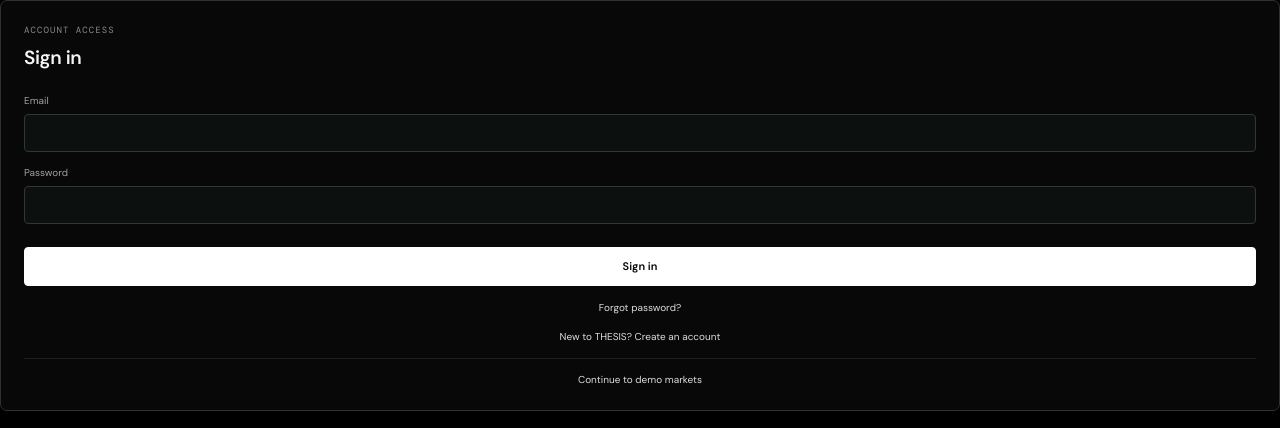
Test case: AuthForm › handles signup with an active session
The width and height of the screenshot is (1280, 428).
Step 1. Click the button "New to THESIS? Create an account" → (640, 336), box [24,328,1256,344]
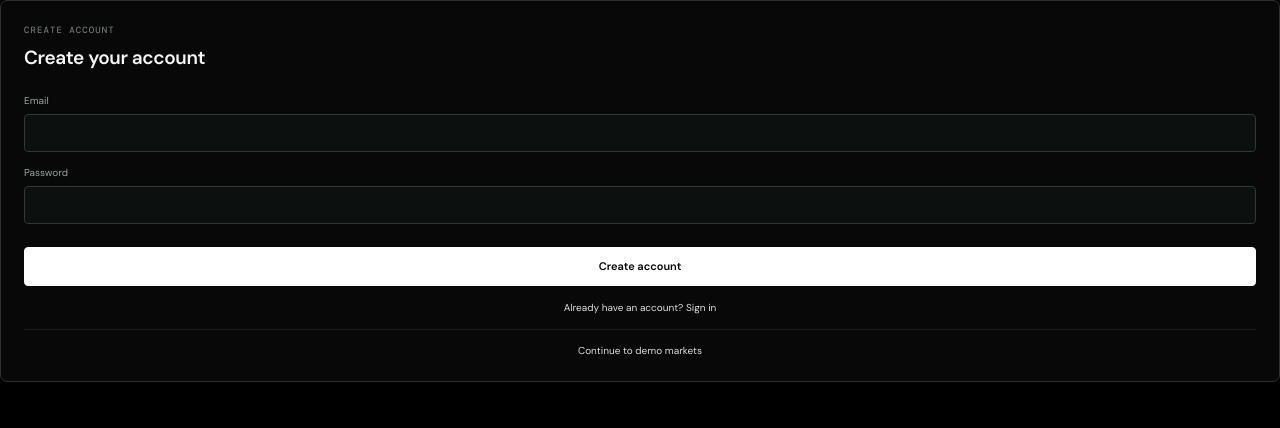
Step 2. Type "trader@example.com" into the field labelled "Email" → (640, 132), box [24,114,1256,152]
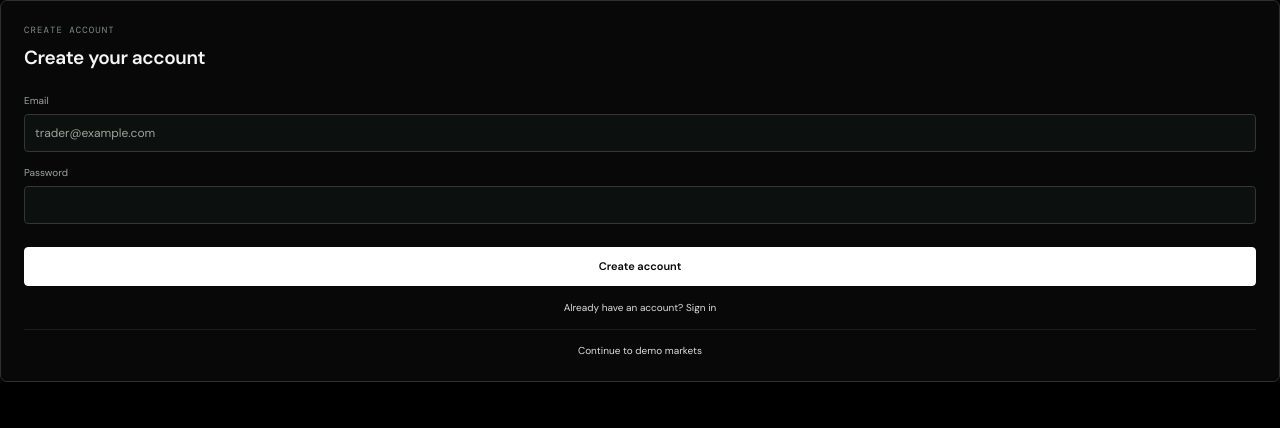
Step 3. Type "correct-horse-42" into the password field labelled "Password" → (640, 204), box [24,186,1256,224]
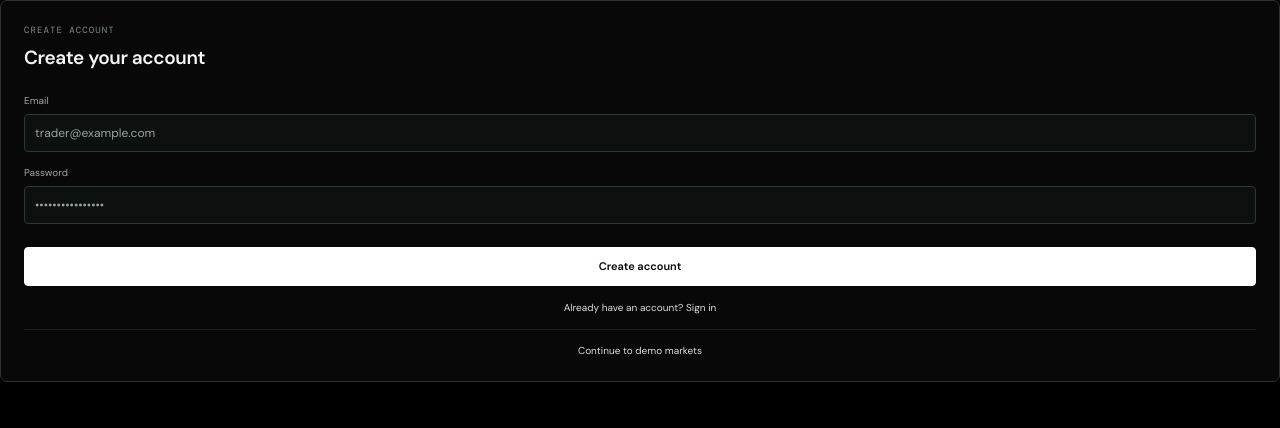
Step 4. Submit the form labelled "Email", box [24,92,1256,286]
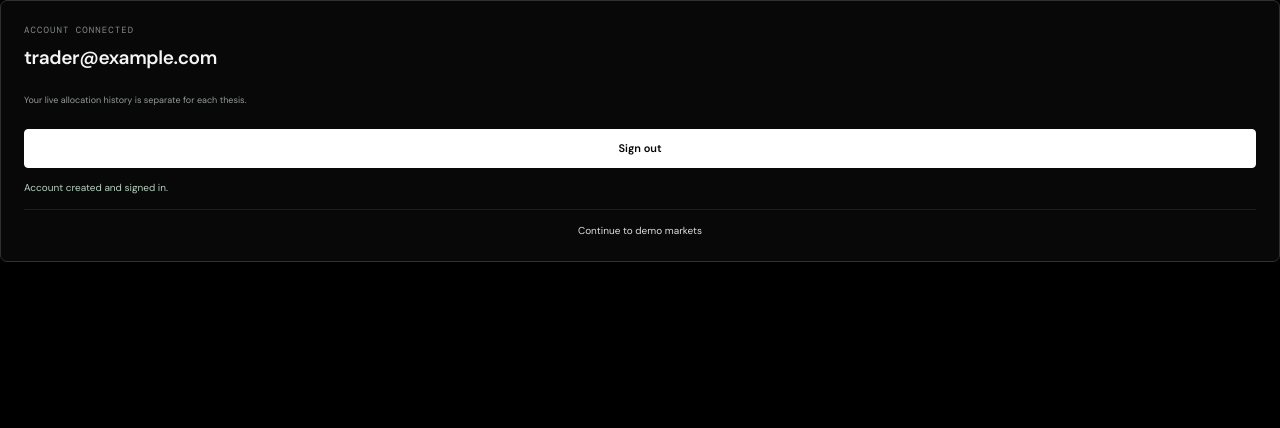
Expected: the heading "trader@example.com" is shown, [24,45,217,70]
Expected: the text "Account created and signed in." is shown, [24,181,168,194]
